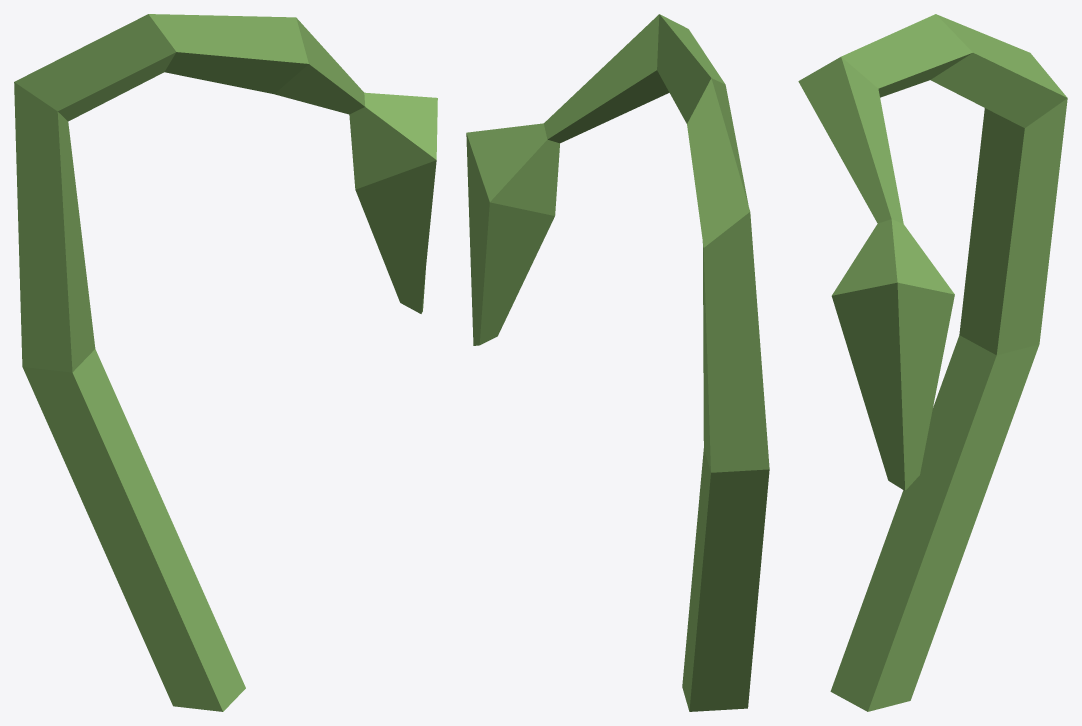
The model's file is Tomato_1.glb.
3 renders of one model, left to right at view 1: azimuth 30°, elevation 25°; view 2: azimuth 150°, elevation 25°; view 3: azimuth 270°, elevation 25°, orthographic. The views are drawn at different scales.
Parts seen in each view (by area): view 1: Tomato_1; view 2: Tomato_1; view 3: Tomato_1.
Part boxes in pixels (x1,y1,x2,y2): Tomato_1: (14, 14, 437, 711); Tomato_1: (466, 14, 769, 711); Tomato_1: (798, 14, 1067, 711).
Size of the model in its own units: 0.1011 by 0.1793 by 0.0648.
